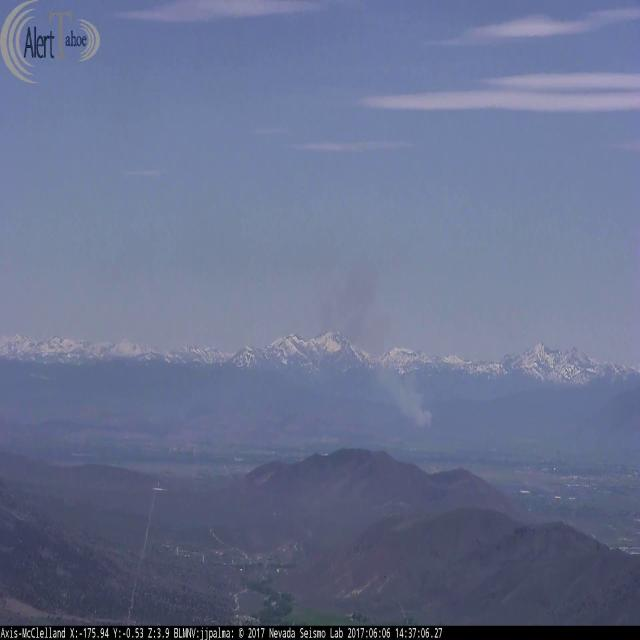smoke: (258, 201, 436, 431)
